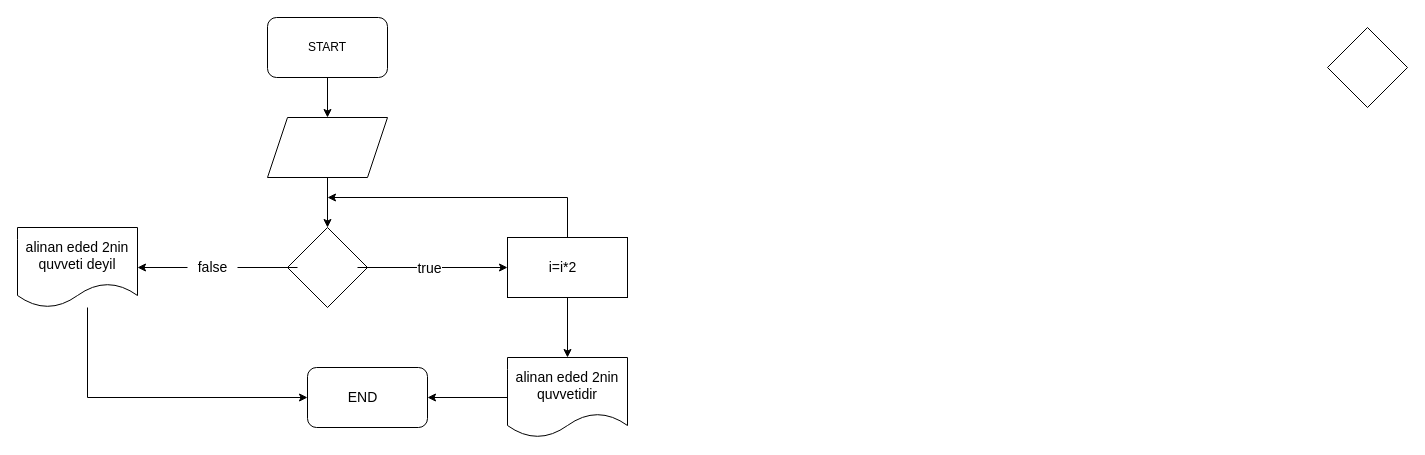
Image size: 1425x455. Some labels were removed from this diagram. The shapes that lost their labels are listed below. From the top down, each one's box as (x1, y1, x2, y2) in pixels, then its label:
(266, 116, 388, 178): num i
(286, 226, 368, 308): num>=i
